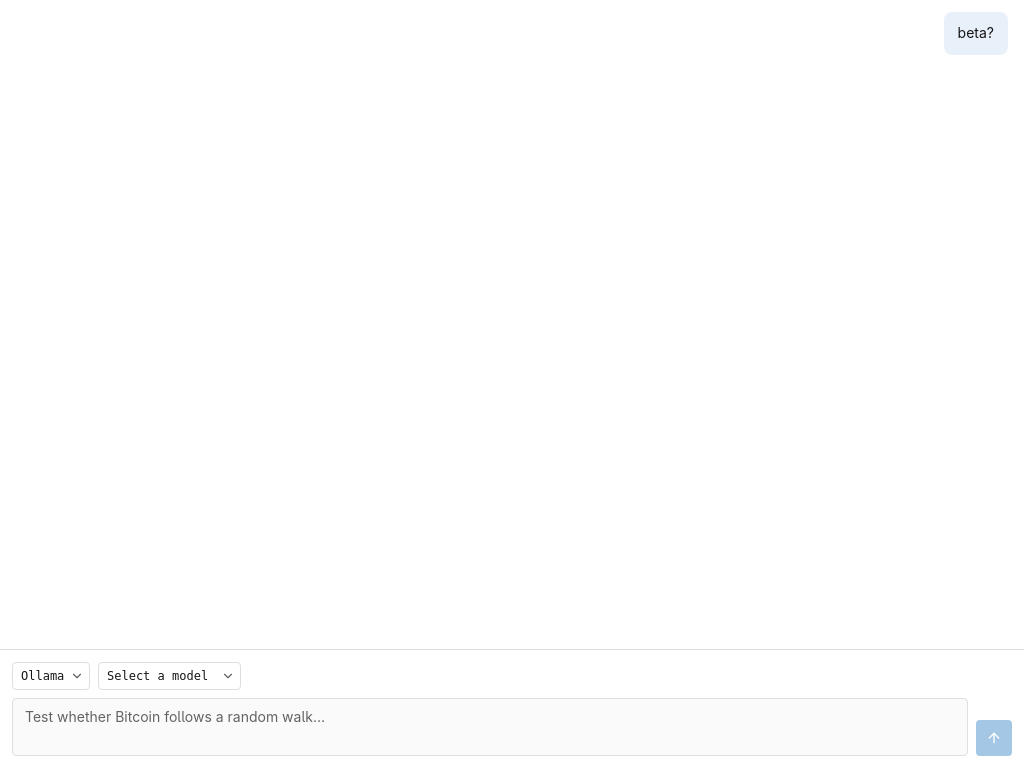
Test: Conversation › surfaces a stream error without losing the transcript
The width and height of the screenshot is (1024, 768).
Select "llama3.2:latest" in the dropdown named "Model": (170, 676) [98,662,241,690]
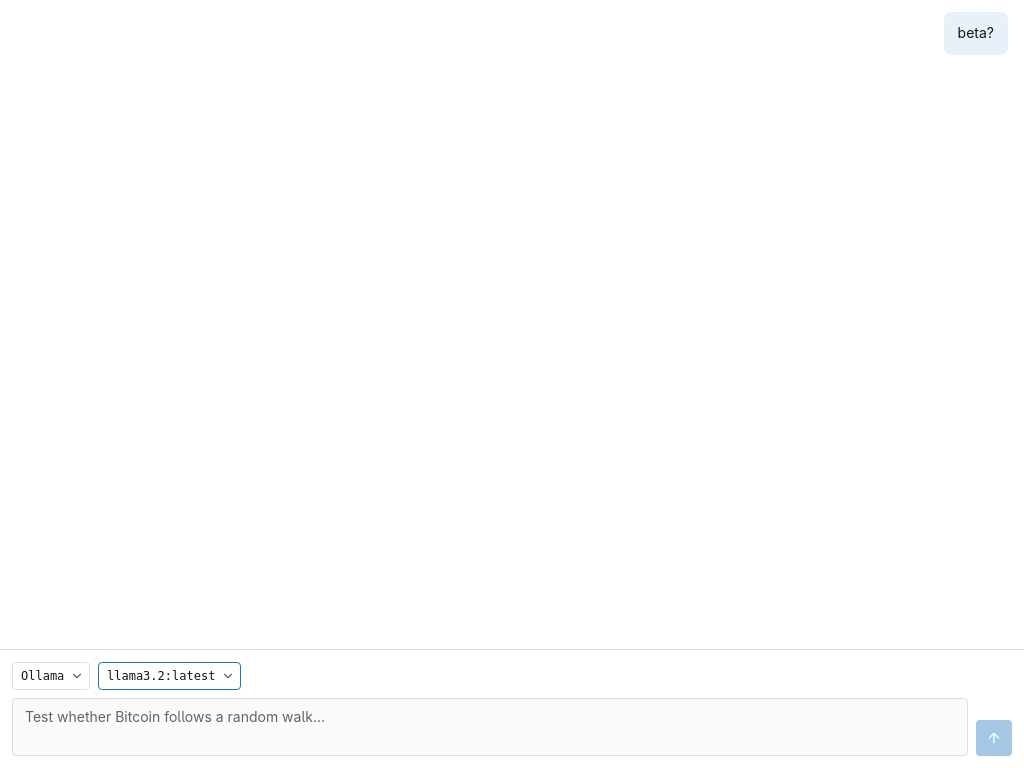
In the text box named "Message": (490, 727) [12,698,968,756], type "beta?"
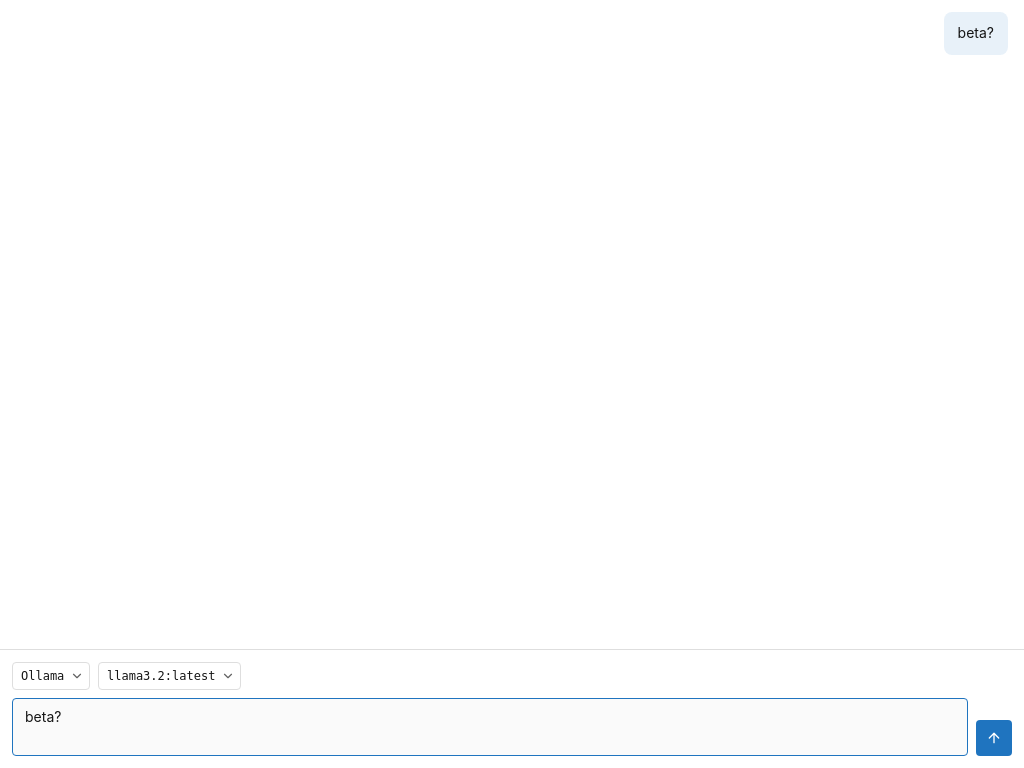
Click the button named "Send message": (994, 738) [976,720,1012,756]
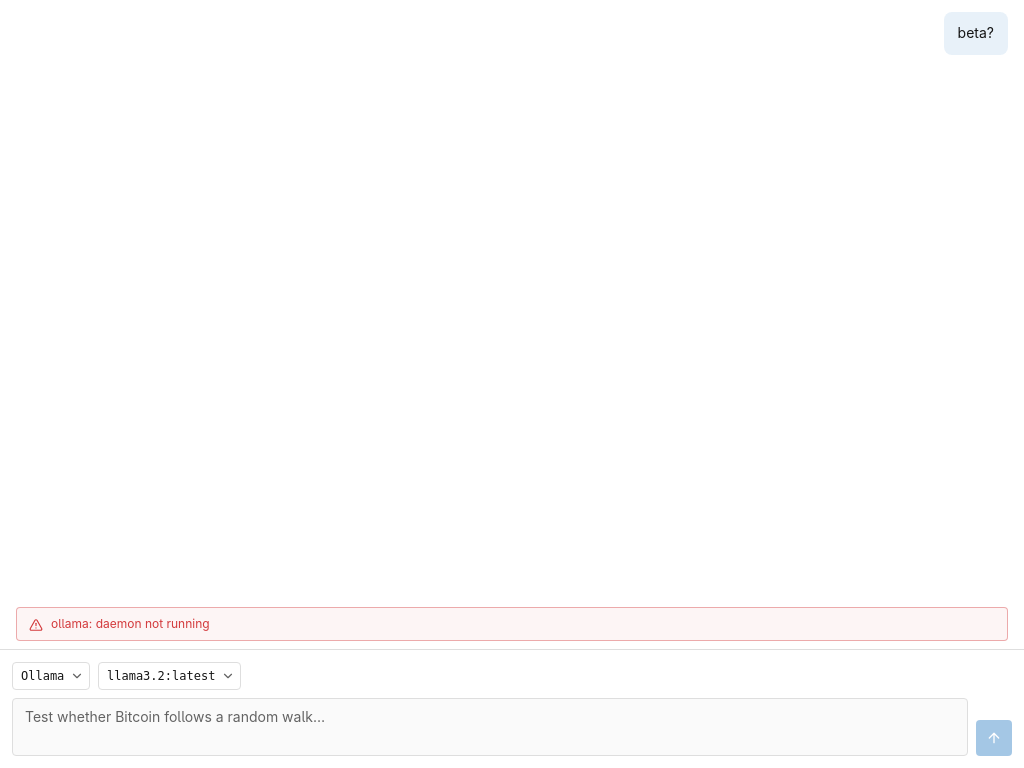
expect the message shows "daemon not running": met, box [51,616,210,631]
